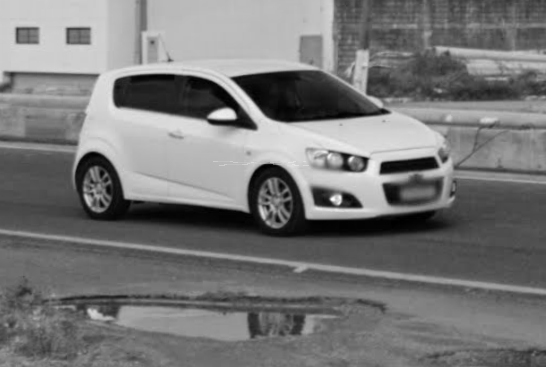car: (69, 31, 468, 239)
